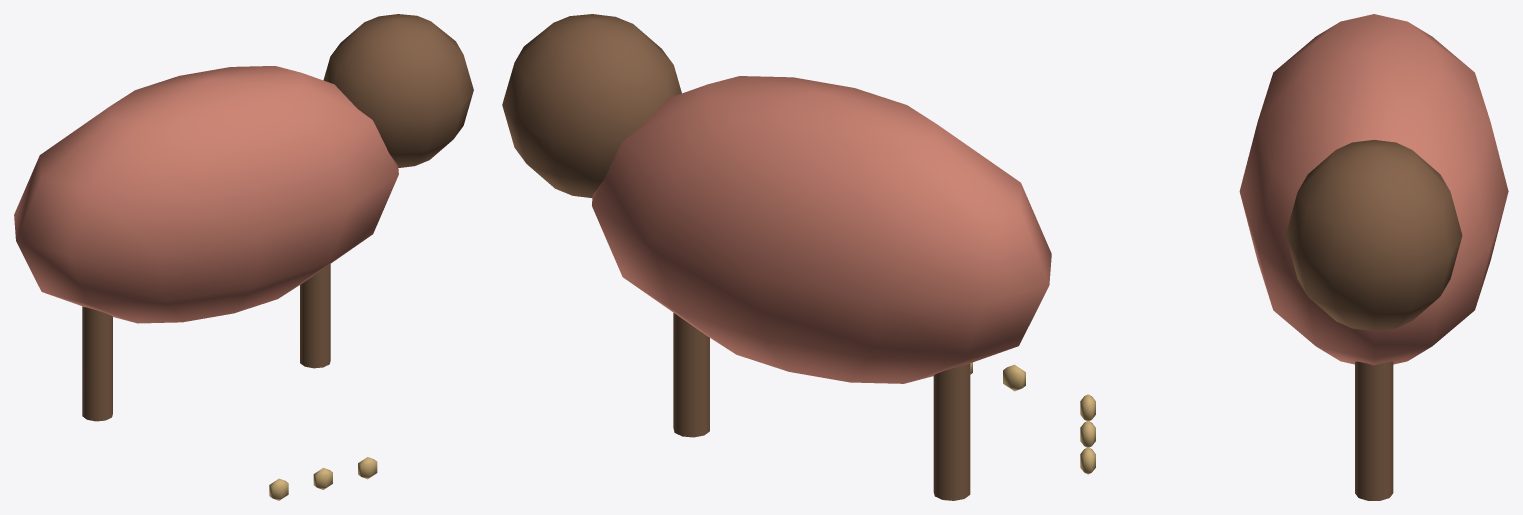
The picture shows the model from 3 angles, left to right: view 1: azimuth 30°, elevation 25°; view 2: azimuth 150°, elevation 25°; view 3: azimuth 270°, elevation 25°; orthographic projection. The views are drawn at different scales.
Parts seen in each view (by area): view 1: g_s77; view 2: g_s77; view 3: g_s77.
Part boxes in pixels (x1,y1,x2,y2): g_s77: (14,14,473,500); g_s77: (502,14,1051,500); g_s77: (1080,14,1508,500).
Size of the model in its own units: 0.3548 by 0.2553 by 0.2396.
